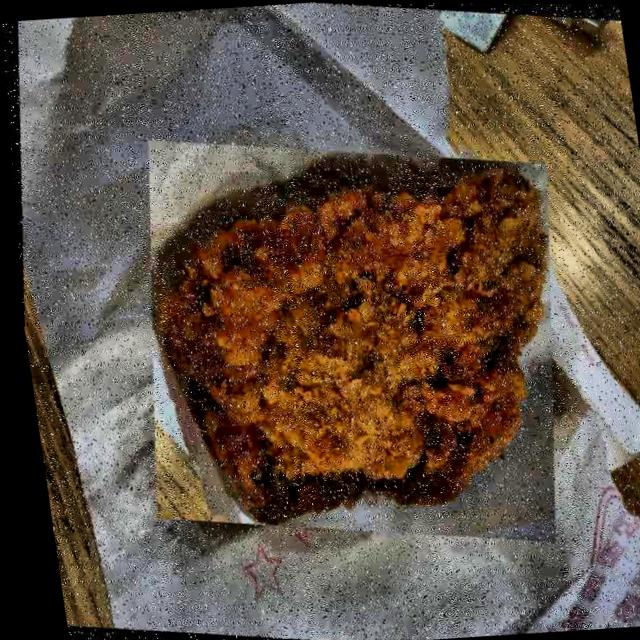Food: (97, 110, 595, 569)
